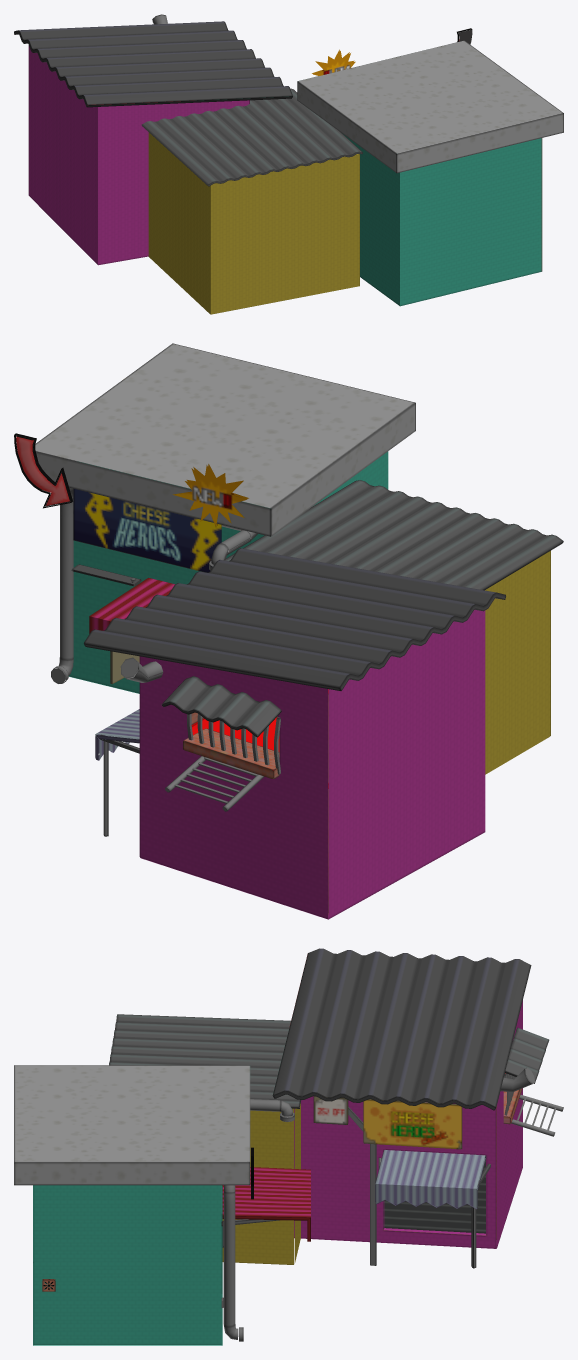
File: Building_Papucards.fbx
3 renders of one model, top to bottom at view 1: azimuth 30°, elevation 25°; view 2: azimuth 150°, elevation 25°; view 3: azimuth 270°, elevation 25°, orthographic. The views are drawn at different scales.
Parts seen in each view (by area): view 1: Cube.005; view 2: Cube.005; view 3: Cube.005.
Boxes of the visible parts, box(x1,y1,x2,y2) form: Cube.005: box(14, 14, 563, 314); Cube.005: box(14, 343, 563, 919); Cube.005: box(14, 948, 563, 1345).
Bounding box in the file's own units: 23.26 × 11.6 × 25.81.
